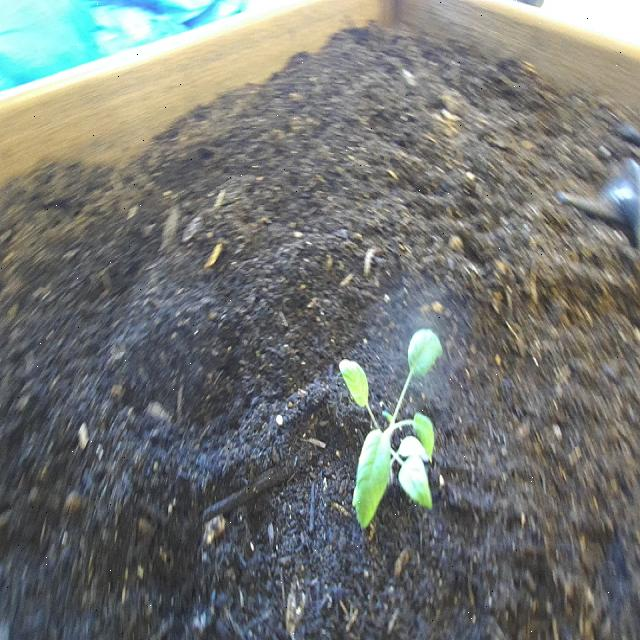Healthy: (332, 321, 450, 535)
